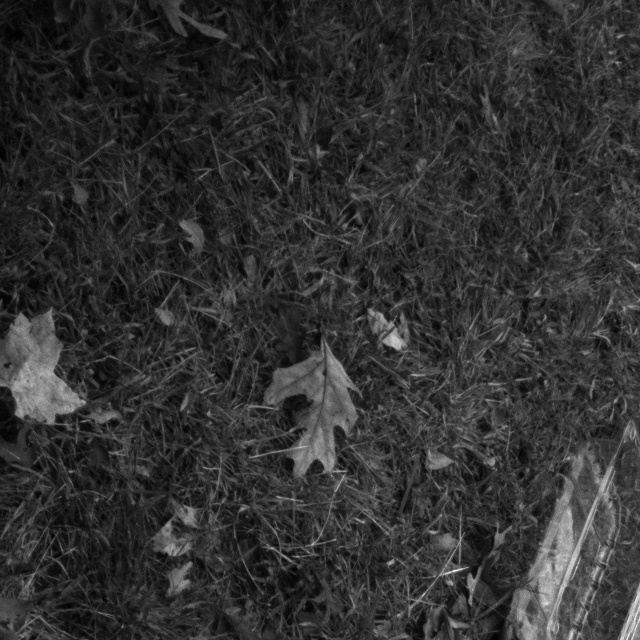container: (493, 419, 640, 640)
